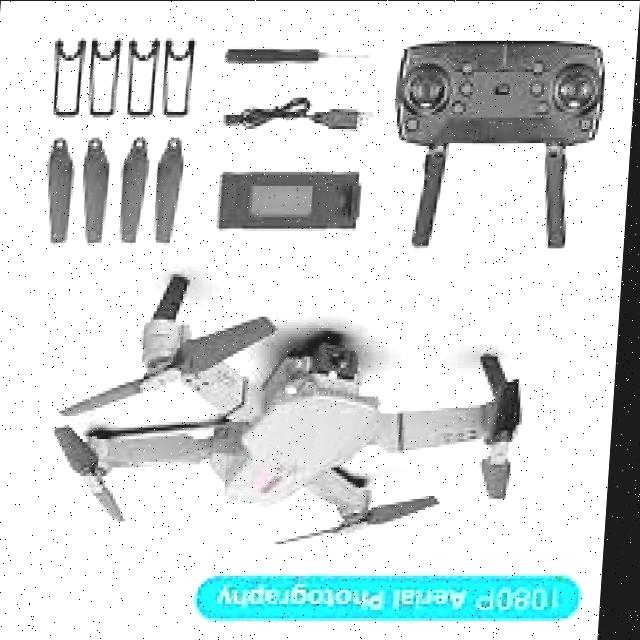drone: (47, 258, 547, 552)
